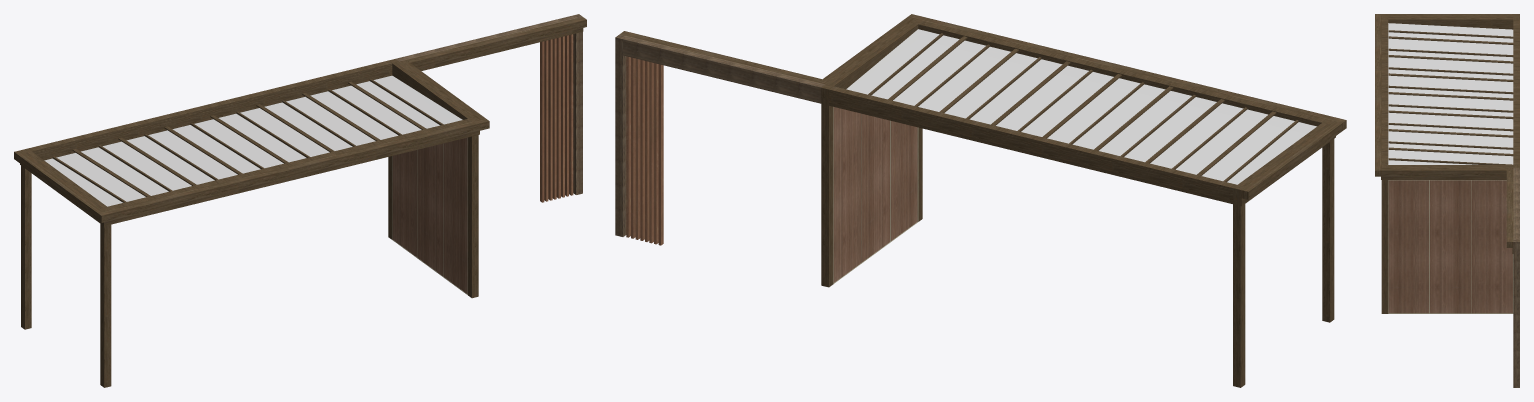
File: hy29-e_brownebony.fbx
The picture shows the model from 3 angles, left to right: view 1: azimuth 30°, elevation 25°; view 2: azimuth 150°, elevation 25°; view 3: azimuth 270°, elevation 25°; orthographic projection. The views are drawn at different scales.
Parts seen in each view (by area): view 1: hy29-e_brownebony2; view 2: hy29-e_brownebony2; view 3: hy29-e_brownebony2.
Boxes of the visible parts, left/top/right/bottom form: hy29-e_brownebony2: left=14, top=14, right=586, bottom=387; hy29-e_brownebony2: left=615, top=14, right=1346, bottom=387; hy29-e_brownebony2: left=1375, top=14, right=1519, bottom=387.
Size of the model in its own units: 820 by 245 by 220.
8 materials, 7 textured.
